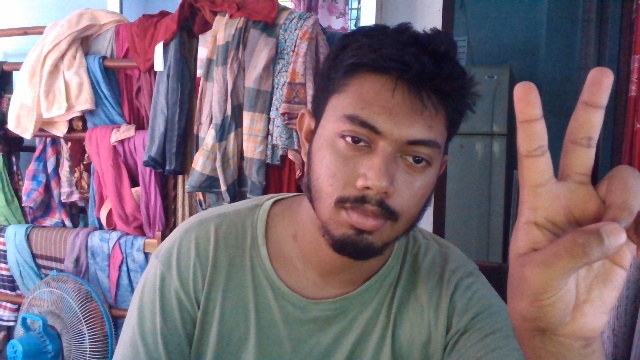thanks: (508, 61, 640, 337)
